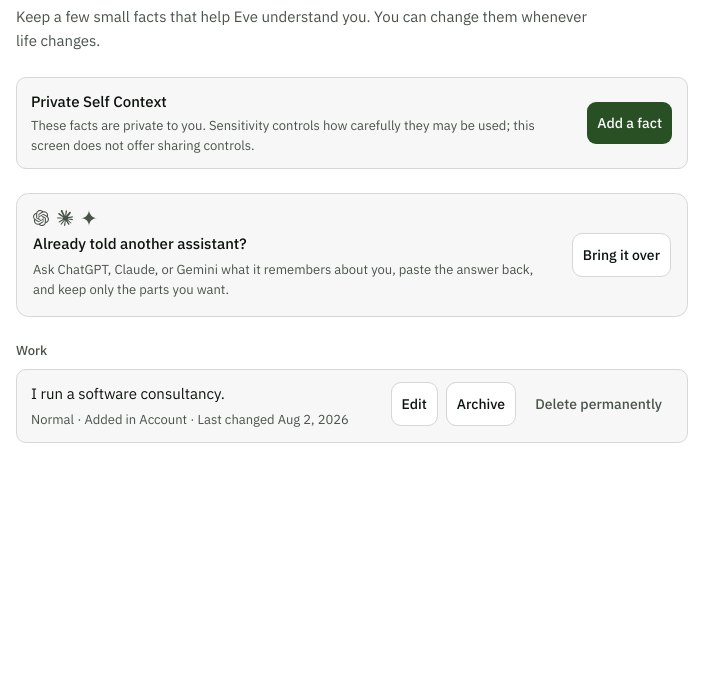
Test: AboutYouSurface › edits an existing fact through the returned view without exposing an owner field
Click the button with aria-label "Edit Work fact". click: coordinates (414, 404)
box: x1=390 y1=382 x2=438 y2=426
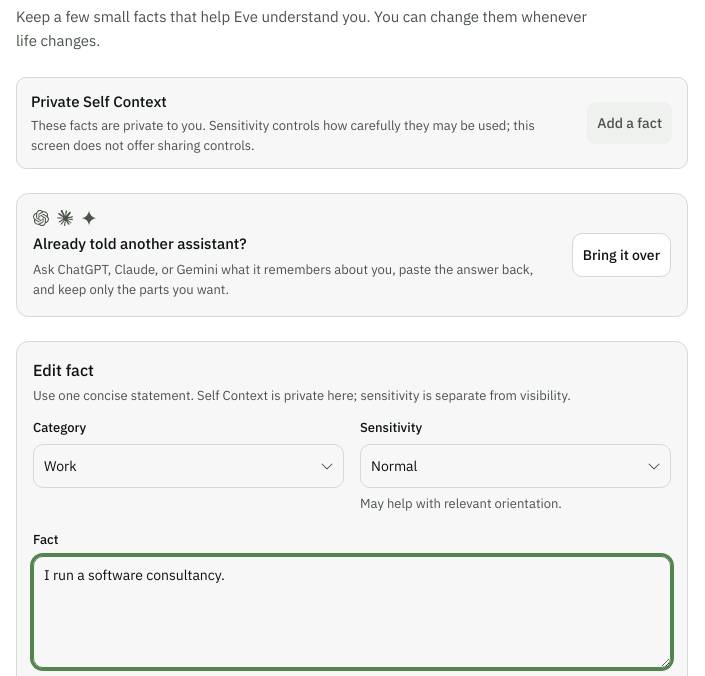
Replace the text in the text box labelled "Fact" with "A client draft". click: coordinates (352, 612)
box: x1=33 y1=556 x2=671 y2=668
Click the dropdown named "Category". click: coordinates (60, 466)
box: x1=33 y1=444 x2=344 y2=488
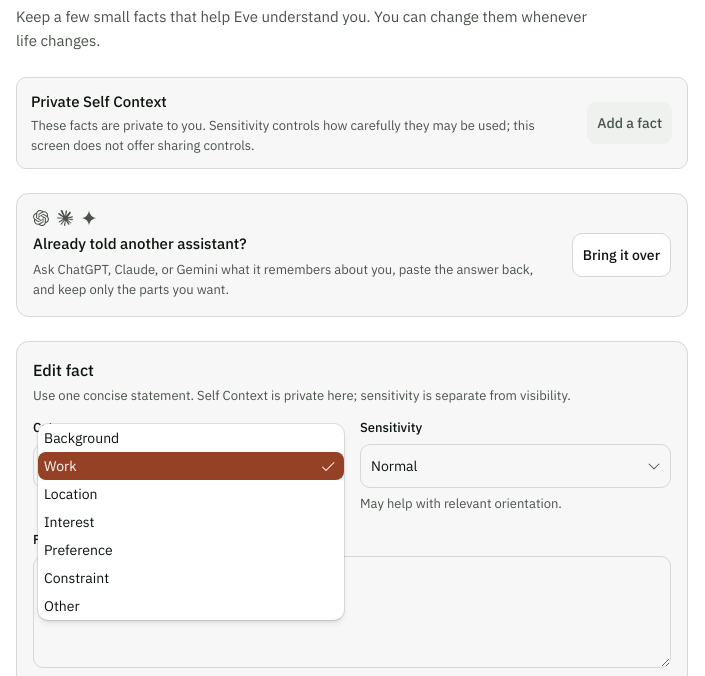
Click the option "Preference". click: coordinates (78, 550)
box: x1=44 y1=541 x2=113 y2=559
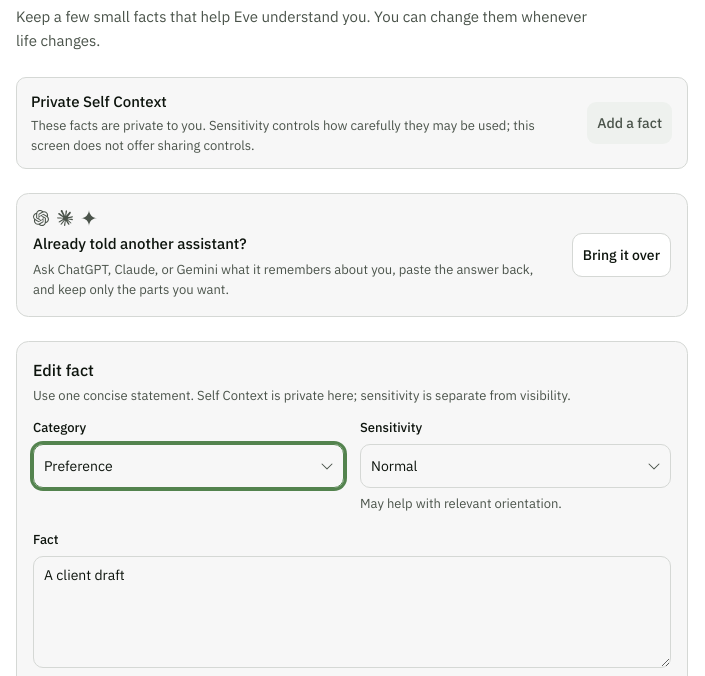
Click the dropdown named "Sensitivity". click: coordinates (394, 466)
box: x1=360 y1=444 x2=671 y2=488
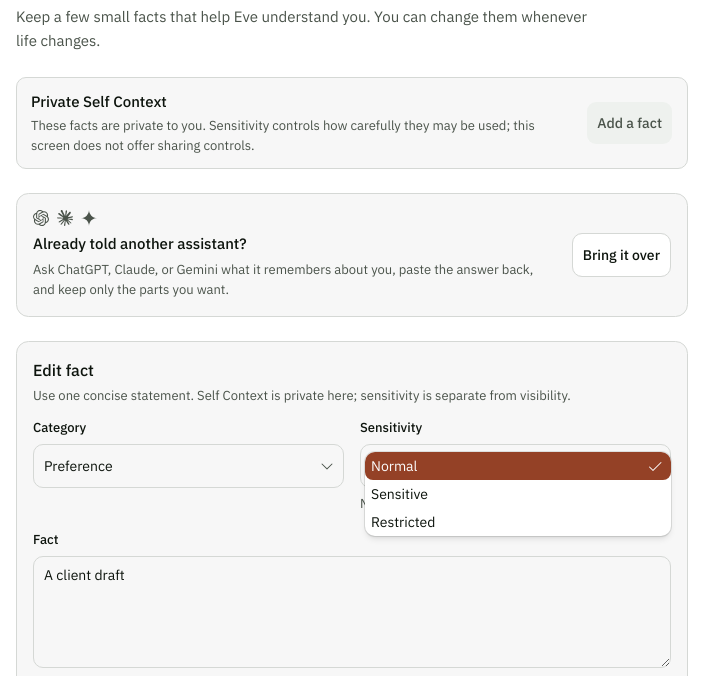
Click the option "Restricted". click: coordinates (403, 522)
box: x1=371 y1=513 x2=435 y2=531
(page scrolled)
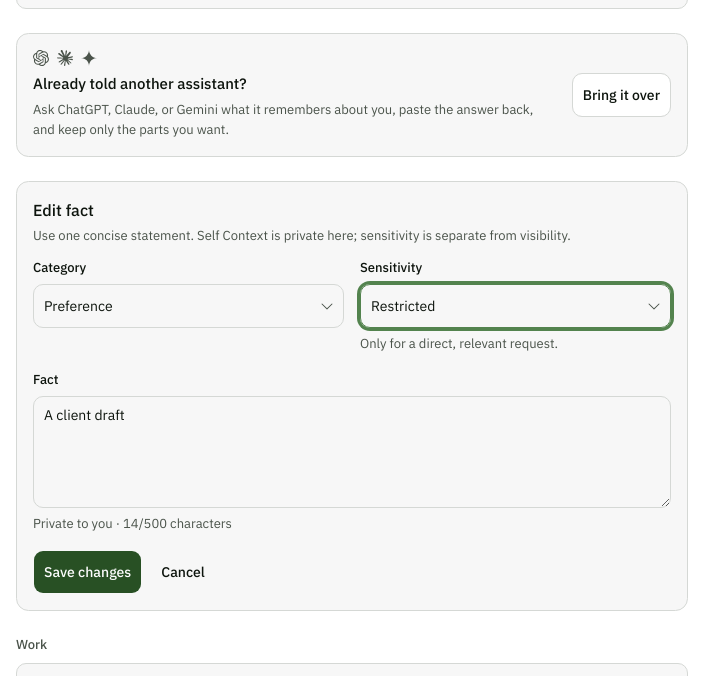
Click the button "Save changes". click: coordinates (88, 572)
box: x1=33 y1=550 x2=142 y2=594
(page scrolled)
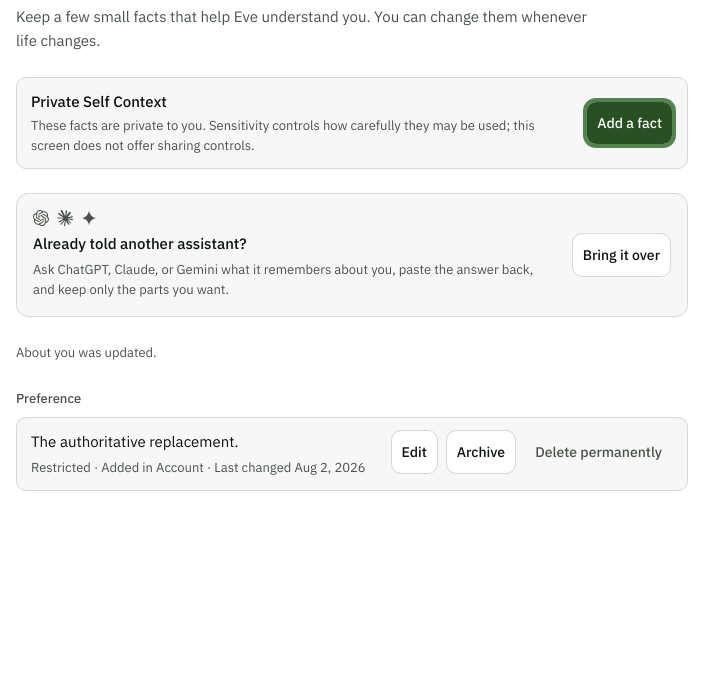
expect the text "A client draft" is not shown: met
expect the text "The authoritative replacement." is shown: met, box x1=31 y1=432 x2=238 y2=451
